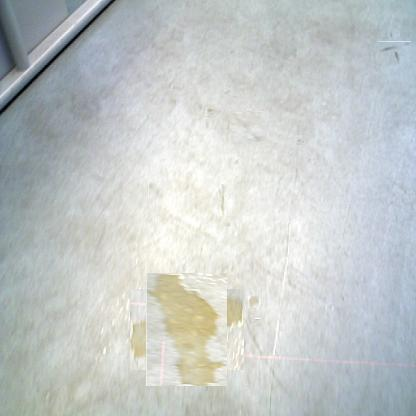liquid: (138, 281, 236, 378), (250, 314, 262, 326), (248, 297, 259, 308)
mark: (243, 317, 289, 395), (233, 109, 266, 143), (383, 36, 406, 58), (219, 184, 227, 216), (148, 182, 163, 198), (296, 136, 304, 144), (198, 102, 204, 112), (207, 107, 215, 114), (228, 49, 235, 57), (204, 118, 209, 129), (224, 88, 230, 96), (231, 94, 237, 100)
